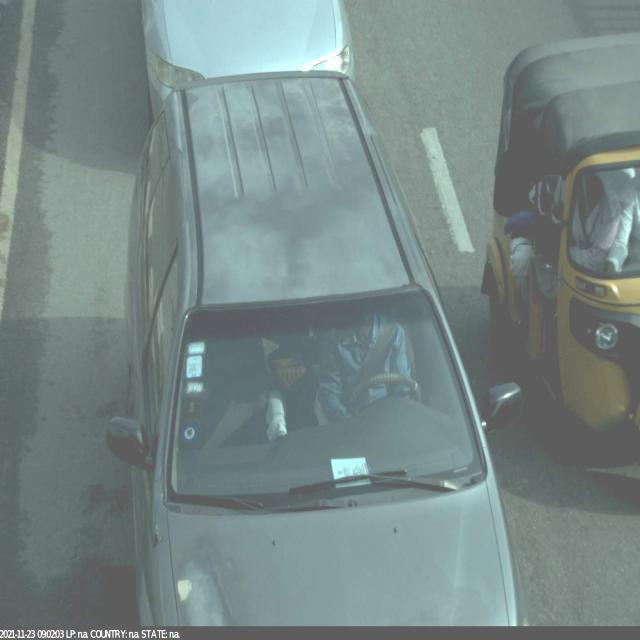windshield: (156, 286, 501, 526)
